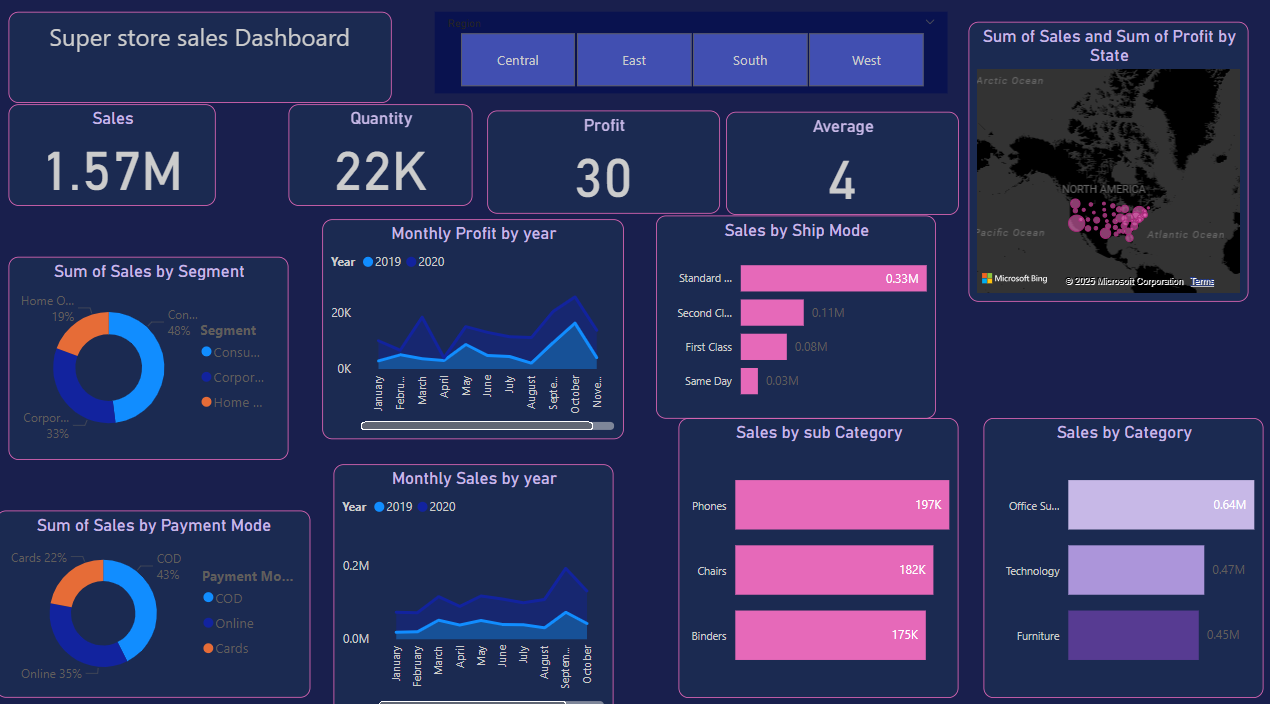

The page's visual inventory and layout, read from the dashboard file:
{"tool":"powerbi","page":{"name":"Page 1","canvas":[1280,720],"ordinal":0},"visuals":[{"type":"clusteredBarChart","title":" Sales by Category","fields":{"Category":["SuperStore_Sales_Dataset.Category"],"Y":["Sum(SuperStore_Sales_Dataset.Sales)"]},"box":[987.1,420,280,280],"z":0},{"type":"clusteredBarChart","title":" Sales by sub Category","fields":{"Y":["Sum(SuperStore_Sales_Dataset.Sales)"],"Category":["SuperStore_Sales_Dataset.Sub-Category"]},"box":[682.9,420,280,280],"z":1000},{"type":"clusteredBarChart","title":" Sales by Ship Mode","fields":{"Y":["Sum(SuperStore_Sales_Dataset.Sales)"],"Category":["SuperStore_Sales_Dataset.Ship Mode"]},"box":[660,217.1,280,202.9],"z":2000},{"type":"stackedAreaChart","title":"Monthly Sales by year","fields":{"Category":["SuperStore_Sales_Dataset.Order Date.Variation.Date Hierarchy.Month","SuperStore_Sales_Dataset.Order Date.Variation.Date Hierarchy.Day"],"Y":["Sum(SuperStore_Sales_Dataset.Sales)"],"Series":["SuperStore_Sales_Dataset.Order Date.Variation.Date Hierarchy.Year"]},"box":[337.1,465.7,280,254.3],"z":3000},{"type":"stackedAreaChart","title":"Monthly Profit by year","fields":{"Category":["SuperStore_Sales_Dataset.Order Date.Variation.Date Hierarchy.Month","SuperStore_Sales_Dataset.Order Date.Variation.Date Hierarchy.Day"],"Series":["SuperStore_Sales_Dataset.Order Date.Variation.Date Hierarchy.Year"],"Y":["Sum(SuperStore_Sales_Dataset.Profit)"]},"box":[325.7,221.4,301.4,220],"z":4000},{"type":"map","fields":{"Category":["SuperStore_Sales_Dataset.State"],"Size":["Sum(SuperStore_Sales_Dataset.Sales)"]},"box":[972.9,24.3,280,280],"z":5000},{"type":"donutChart","fields":{"Category":["SuperStore_Sales_Dataset.Segment"],"Y":["Sum(SuperStore_Sales_Dataset.Sales)"]},"box":[12.9,258.6,280,202.9],"z":6000},{"type":"donutChart","fields":{"Category":["SuperStore_Sales_Dataset.Payment Mode"],"Y":["Sum(SuperStore_Sales_Dataset.Sales)"]},"box":[0,512.9,314.3,187.1],"z":7000},{"type":"slicer","fields":{"Values":["SuperStore_Sales_Dataset.Region"]},"box":[438.6,14.3,512.9,81.4],"z":8000},{"type":"textbox","box":[12.9,14.3,382.9,91.4],"z":9000},{"type":"card","title":"Sales","fields":{"Values":["Sum(SuperStore_Sales_Dataset.Sales)"]},"box":[12.9,105.7,207.1,101.4],"z":10000},{"type":"card","title":"Quantity","fields":{"Values":["Sum(SuperStore_Sales_Dataset.Quantity)"]},"box":[292.9,105.7,184.3,101.4],"z":11000},{"type":"card","title":"Profit","fields":{"Values":["Avg(SuperStore_Sales_Dataset.Profit)"]},"box":[491.4,112.9,232.9,102.9],"z":12000},{"type":"card","title":"Average","fields":{"Values":["Avg(SuperStore_Sales_Dataset.avgdelivery)"]},"box":[730,114.3,232.9,102.9],"z":13000}]}

Visuals, with their boxes in screenshot pixels (x1, y1, x2, y2), scaled from the page's 1280x720 canvas onto the 1270x704 screenshot:
" Sales by Category" clusteredBarChart: pyautogui.locateOnScreen(979, 411, 1257, 684)
" Sales by sub Category" clusteredBarChart: pyautogui.locateOnScreen(678, 411, 955, 684)
" Sales by Ship Mode" clusteredBarChart: pyautogui.locateOnScreen(655, 212, 933, 411)
"Monthly Sales by year" stackedAreaChart: pyautogui.locateOnScreen(334, 455, 612, 703)
"Monthly Profit by year" stackedAreaChart: pyautogui.locateOnScreen(323, 216, 622, 432)
map - SuperStore_Sales_Dataset.State x Sum(SuperStore_Sales_Dataset.Sales): pyautogui.locateOnScreen(965, 24, 1243, 298)
donutChart - SuperStore_Sales_Dataset.Segment x Sum(SuperStore_Sales_Dataset.Sales): pyautogui.locateOnScreen(13, 253, 291, 451)
donutChart - SuperStore_Sales_Dataset.Payment Mode x Sum(SuperStore_Sales_Dataset.Sales): pyautogui.locateOnScreen(0, 502, 312, 684)
slicer - SuperStore_Sales_Dataset.Region: pyautogui.locateOnScreen(435, 14, 944, 94)
textbox: pyautogui.locateOnScreen(13, 14, 393, 103)
"Sales" card: pyautogui.locateOnScreen(13, 103, 218, 202)
"Quantity" card: pyautogui.locateOnScreen(291, 103, 473, 202)
"Profit" card: pyautogui.locateOnScreen(488, 110, 719, 211)
"Average" card: pyautogui.locateOnScreen(724, 112, 955, 212)
